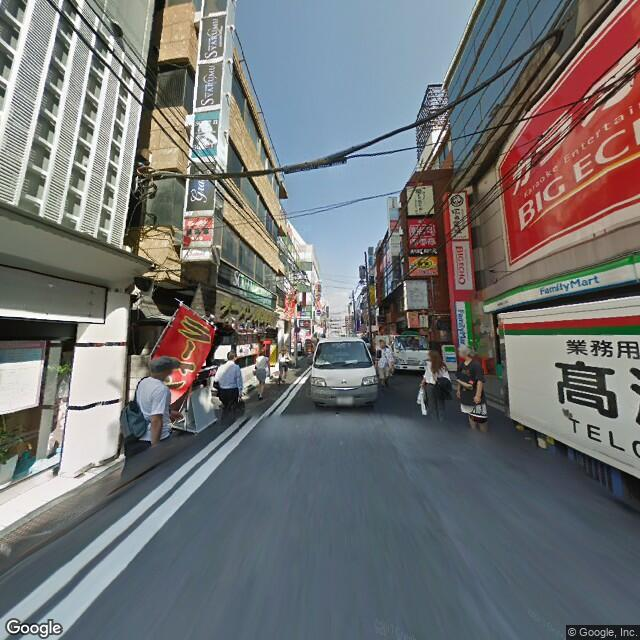family_mart: (485, 253, 638, 316), (538, 269, 601, 300), (454, 301, 474, 350)
